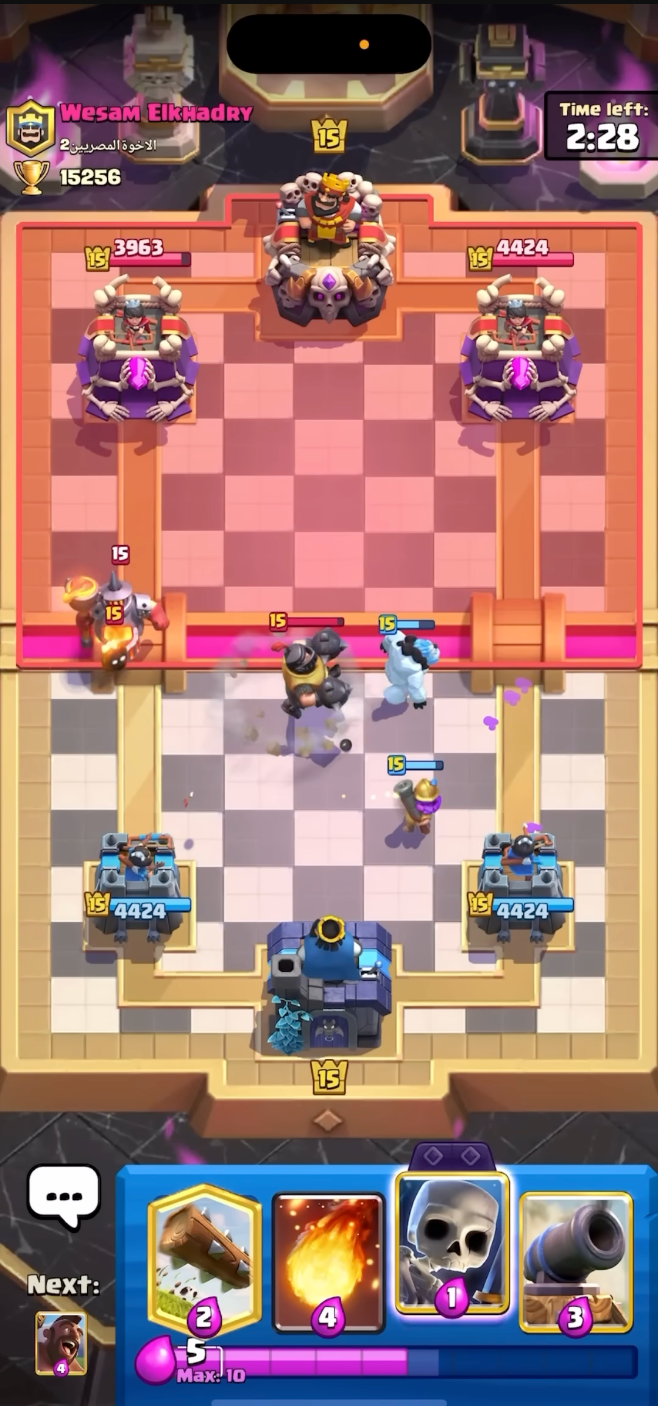ice-golem: (368, 610, 447, 718)
musketeer: (382, 750, 449, 845)
